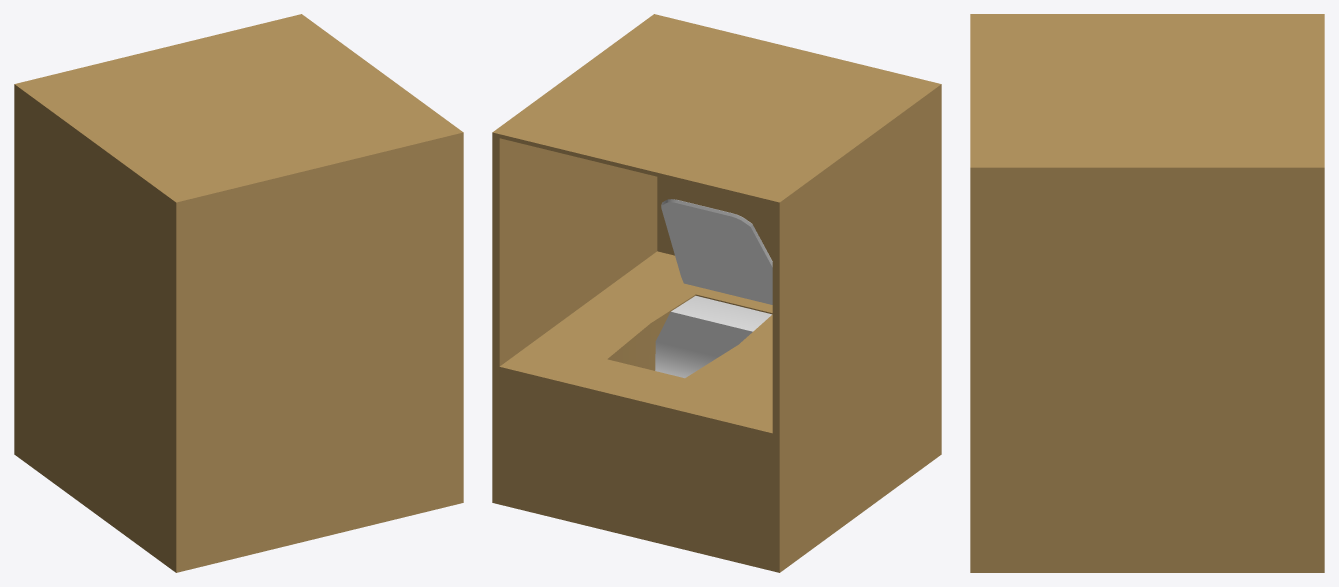
The model's file is wood bath.fbx.
3 views of the same model, side by side, from view 1: azimuth 30°, elevation 25°; view 2: azimuth 150°, elevation 25°; view 3: azimuth 270°, elevation 25° (orthographic). The views are drawn at different scales.
Visible parts, largest first — view 1: wood_bath; view 2: wood_bath; view 3: wood_bath.
Boxes of the visible parts, bbox=[...] form: wood_bath: bbox=[14, 14, 463, 572]; wood_bath: bbox=[492, 14, 941, 572]; wood_bath: bbox=[970, 14, 1324, 572].
Bounding box in the file's own units: 0.4367 × 0.5528 × 0.4259.
